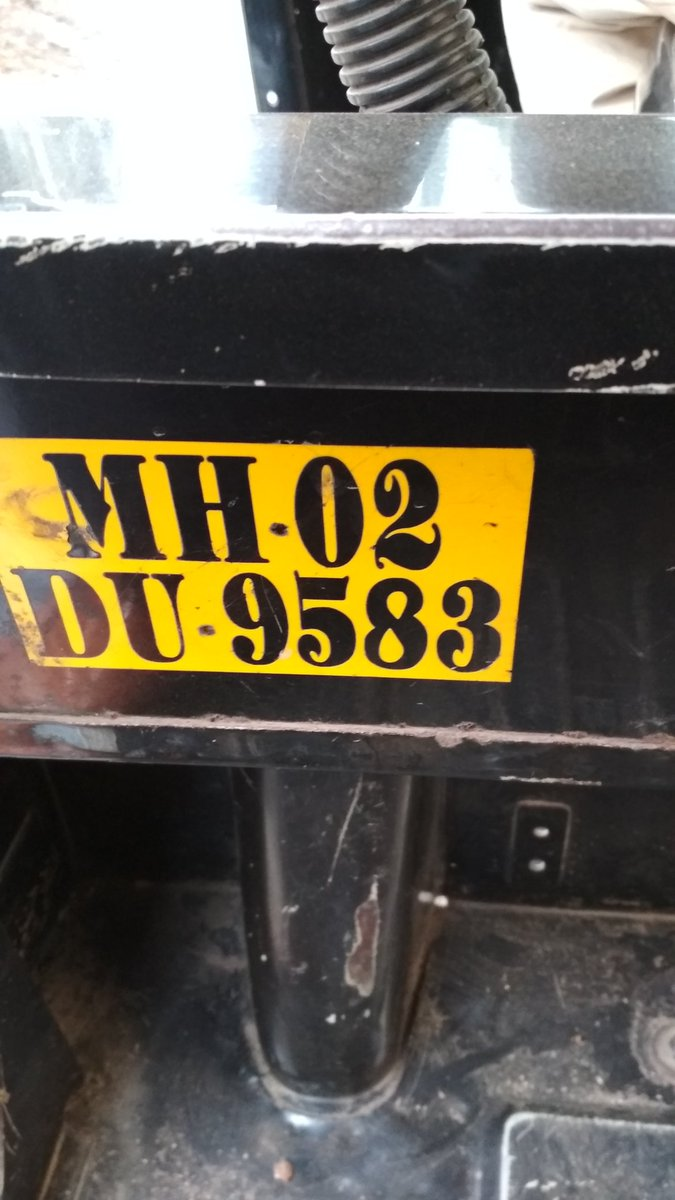doublelinenumberplate: (2, 431, 539, 683)
